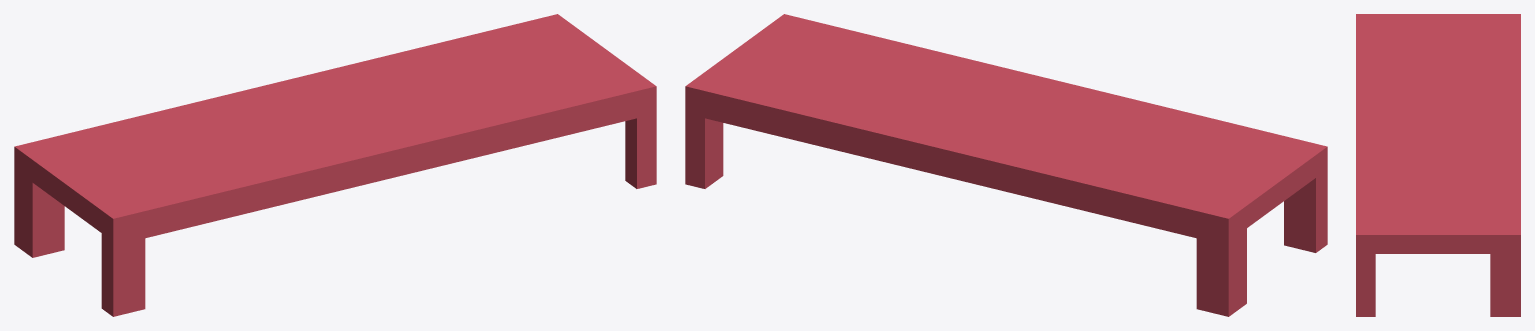
File: Fantabulous Migelo-Sango.glb
The picture shows the model from 3 angles, left to right: view 1: azimuth 30°, elevation 25°; view 2: azimuth 150°, elevation 25°; view 3: azimuth 270°, elevation 25°; orthographic projection. The views are drawn at different scales.
Visible parts, largest first — view 1: Mesh_Mesh_head_geo.001_lambert2SG.001; view 2: Mesh_Mesh_head_geo.001_lambert2SG.001; view 3: Mesh_Mesh_head_geo.001_lambert2SG.001.
Part boxes in pixels (x1,y1,x2,y2): Mesh_Mesh_head_geo.001_lambert2SG.001: [14, 14, 656, 316]; Mesh_Mesh_head_geo.001_lambert2SG.001: [685, 14, 1327, 316]; Mesh_Mesh_head_geo.001_lambert2SG.001: [1356, 14, 1520, 316].
Bounding box in the file's own units: 121 × 20.83 × 38.01.
